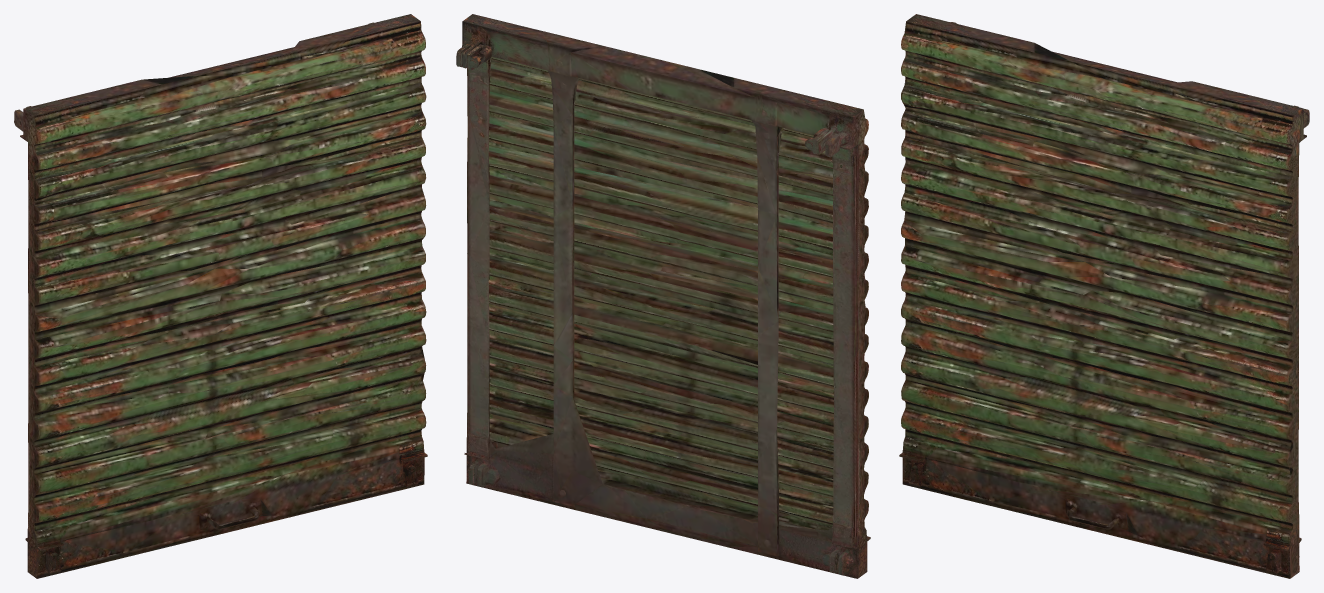
Rendered from bb_garage.glb.
3 renders of one model, left to right at view 1: azimuth 30°, elevation 25°; view 2: azimuth 150°, elevation 25°; view 3: azimuth 330°, elevation 25°, orthographic.
Parts seen in each view (by area): view 1: bb_garage; view 2: bb_garage; view 3: bb_garage.
Part boxes in pixels (<box>): bb_garage: <box>14,14,427,578</box>; bb_garage: <box>456,14,870,578</box>; bb_garage: <box>899,14,1309,578</box>.
Bounding box in the file's own units: 1.67 × 1.89 × 0.2914.
Materials: 1 (1 with a texture image).
